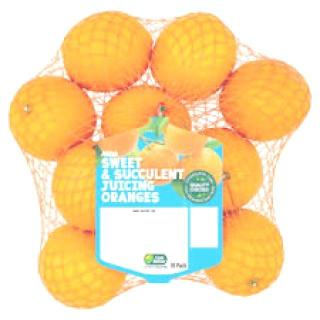orange: (0, 61, 100, 170), (226, 47, 314, 160), (154, 19, 243, 116), (202, 210, 291, 298)
